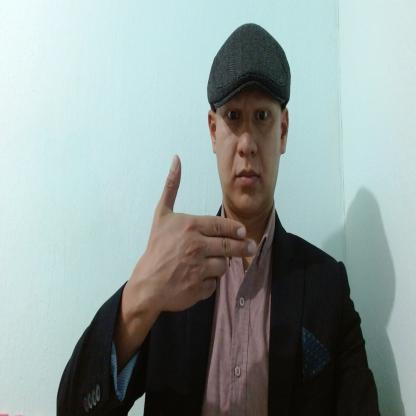H: (148, 152, 258, 312)
